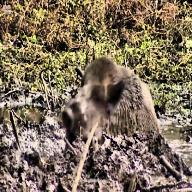boar: (52, 48, 164, 146)
